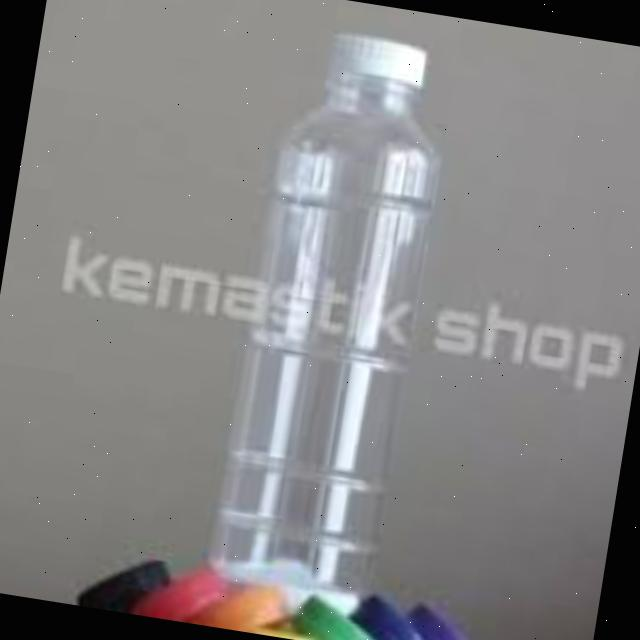trash: (196, 18, 474, 613)
